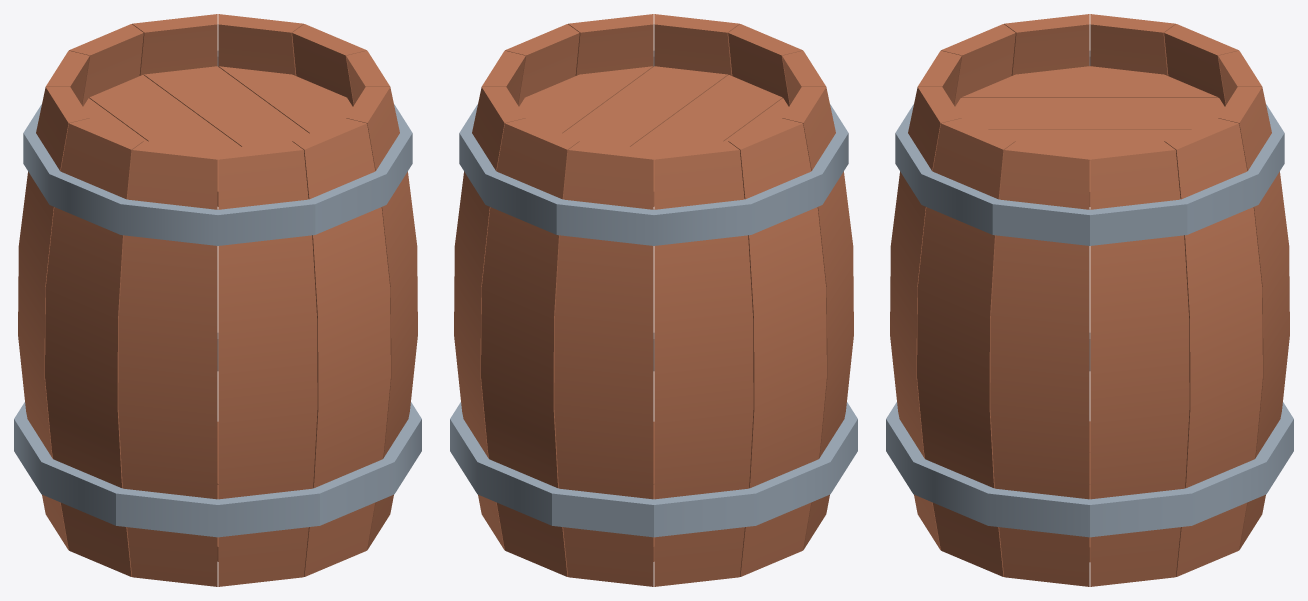
File: Barrel2.fbx
3 renders of one model, left to right at view 1: azimuth 30°, elevation 25°; view 2: azimuth 150°, elevation 25°; view 3: azimuth 270°, elevation 25°, orthographic.
Parts seen in each view (by area): view 1: Circle.010; view 2: Circle.010; view 3: Circle.010.
Part boxes in pixels (<box>): Circle.010: <box>14,14,421,586</box>; Circle.010: <box>450,14,857,586</box>; Circle.010: <box>886,14,1293,586</box>.
Bounding box in the file's own units: 38.64 × 44.66 × 38.64.
1 material, 1 textured.
